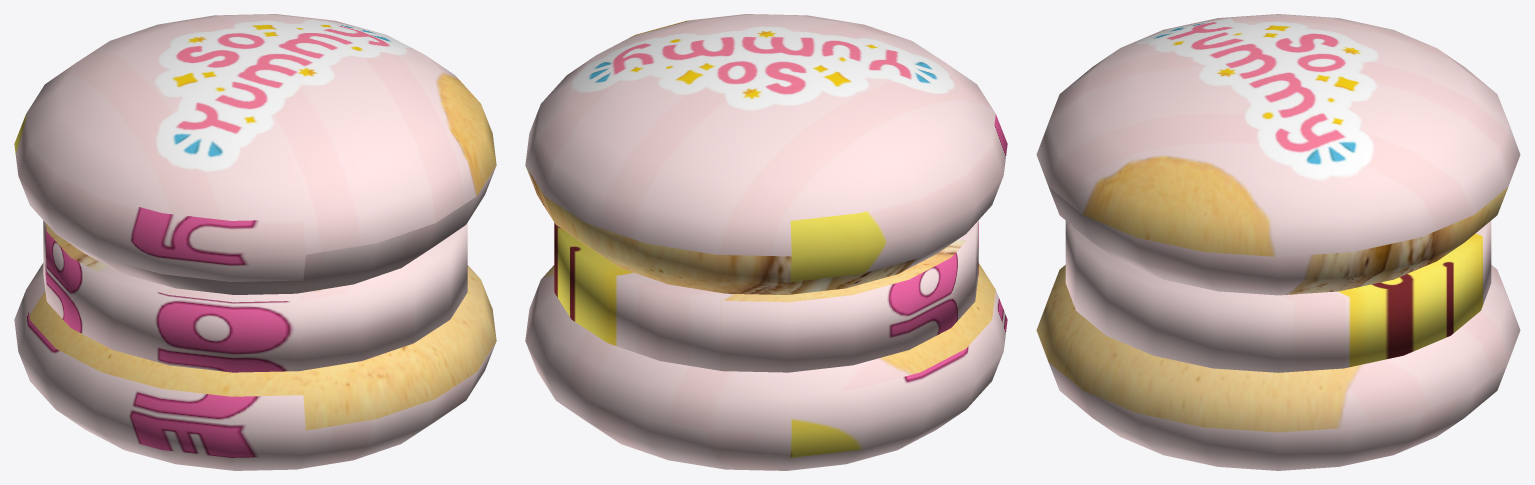
Rendered from prop_lavender_honey_macaron.glb.
The picture shows the model from 3 angles, left to right: view 1: azimuth 30°, elevation 25°; view 2: azimuth 150°, elevation 25°; view 3: azimuth 270°, elevation 25°; orthographic projection.
Visible parts, largest first — view 1: prop_lavender_honey_macaron; view 2: prop_lavender_honey_macaron; view 3: prop_lavender_honey_macaron.
Part boxes in pixels (x1,y1,x2,y2): prop_lavender_honey_macaron: (14, 14, 496, 470); prop_lavender_honey_macaron: (525, 14, 1007, 470); prop_lavender_honey_macaron: (1036, 14, 1520, 470).
Bounding box in the file's own units: 0.05 × 0.0425 × 0.05.
Materials: 1 (1 with a texture image).
